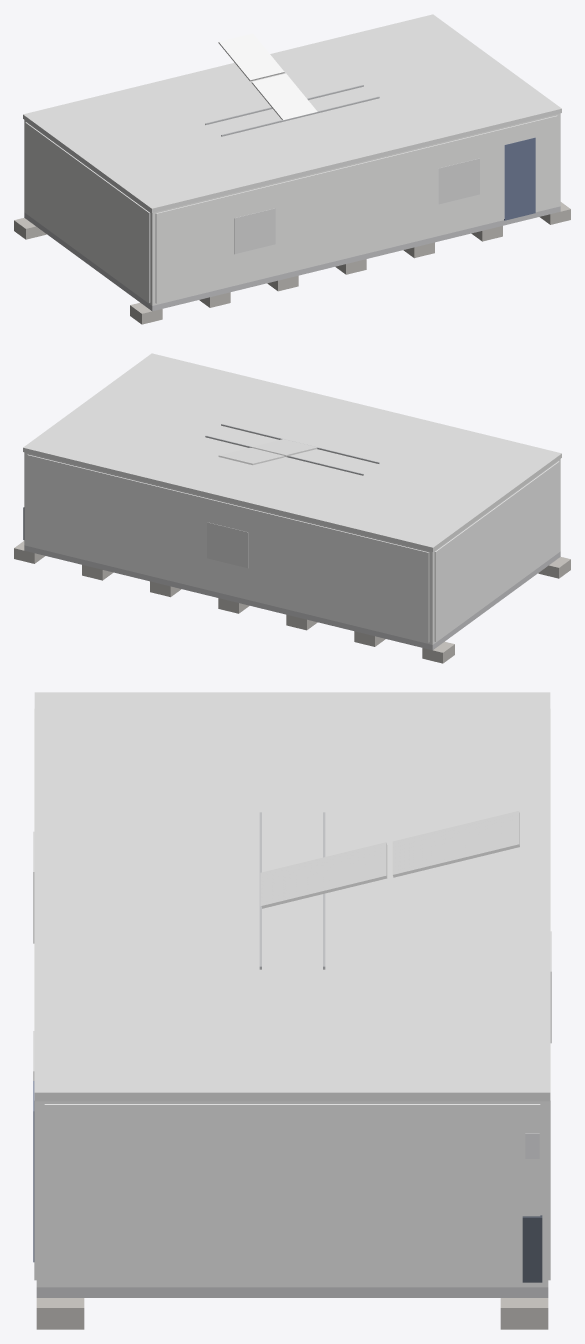
The model's file is Studio-40-FullSolar-LOD0.glb.
The picture shows the model from 3 angles, top to bottom: view 1: azimuth 30°, elevation 25°; view 2: azimuth 150°, elevation 25°; view 3: azimuth 270°, elevation 25°; orthographic projection. The views are drawn at different scales.
Visible parts, largest first — view 1: RoofMain, ExteriorPanelsStandard, SolarPanelArray, BaseFrame, WindowsStandard, ExteriorShell, FoundationBlocks, EntryDoor, SolarMountingHardware; view 2: RoofMain, ExteriorPanelsStandard, BaseFrame, ExteriorShell, FoundationBlocks, WindowsStandard, SolarPanelArray, SolarMountingHardware; view 3: RoofMain, ExteriorPanelsStandard, SolarPanelArray, ExteriorShell, BaseFrame, FoundationBlocks, SolarBattery, SolarMountingHardware.
Part boxes in pixels (x1,y1,x2,y2): RoofMain: (23,14,561,212); ExteriorPanelsStandard: (25,115,557,303); SolarPanelArray: (218,33,317,119); BaseFrame: (24,206,560,311); WindowsStandard: (234,158,479,254); ExteriorShell: (24,113,560,305); FoundationBlocks: (14,202,570,324); EntryDoor: (504,137,535,220); SolarMountingHardware: (205,85,379,136); RoofMain: (23,353,561,551); ExteriorPanelsStandard: (27,454,559,642); BaseFrame: (24,545,560,650); ExteriorShell: (24,452,560,644); FoundationBlocks: (14,541,570,663); WindowsStandard: (207,522,248,568); SolarPanelArray: (218,439,317,465); SolarMountingHardware: (205,424,379,475); RoofMain: (34,692,550,1101); ExteriorPanelsStandard: (34,709,550,1284); SolarPanelArray: (260,811,519,908); ExteriorShell: (36,1101,548,1287); BaseFrame: (36,1287,548,1297); FoundationBlocks: (36,1298,548,1329); SolarBattery: (522,1215,542,1282); SolarMountingHardware: (259,812,325,969).
Bounding box in the file's own units: 12.49 × 4.07 × 6.53.
